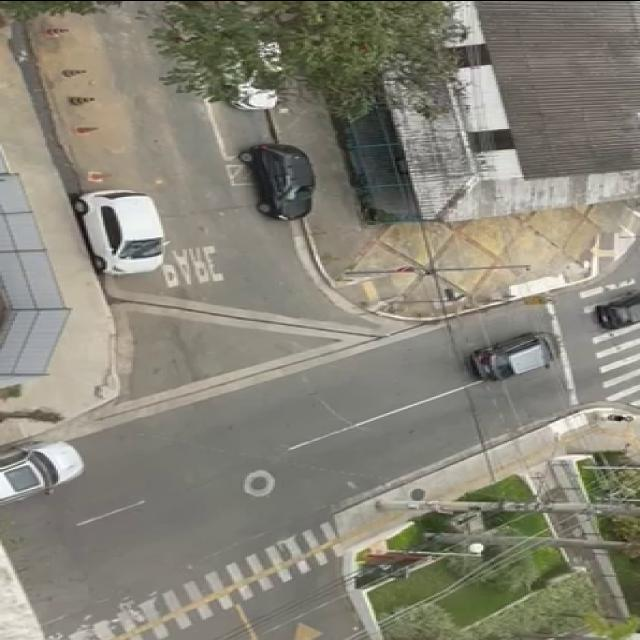car: (72, 187, 170, 273), (214, 9, 288, 115), (3, 432, 93, 506), (236, 143, 322, 220), (473, 328, 561, 382), (594, 289, 640, 333)
